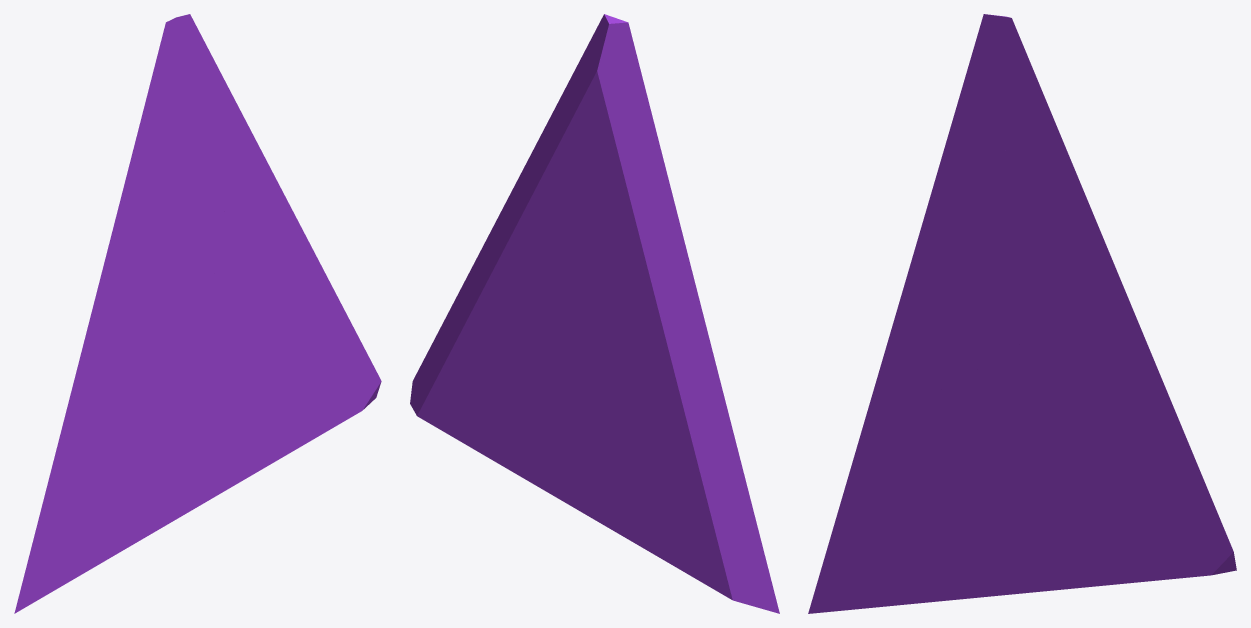
File: Glass_80_1_chunks.fbx
The picture shows the model from 3 angles, left to right: view 1: azimuth 30°, elevation 25°; view 2: azimuth 150°, elevation 25°; view 3: azimuth 330°, elevation 25°; orthographic projection. The views are drawn at different scales.
Parts seen in each view (by area): view 1: Glass_80_1_2, Glass_80_1_7, Glass_80_1_1, Glass_80_1_3, Glass_80_1_5, Glass_80_1_9, Glass_80_1_6, Glass_80_1_0, Glass_80_1_4; view 2: Glass_80_1_2, Glass_80_1_7, Glass_80_1_3, Glass_80_1_1, Glass_80_1_9, Glass_80_1_5, Glass_80_1_6, Glass_80_1_8; view 3: Glass_80_1_2, Glass_80_1_7, Glass_80_1_1, Glass_80_1_3, Glass_80_1_5, Glass_80_1_9, Glass_80_1_6, Glass_80_1_0, Glass_80_1_4.
Part boxes in pixels (bbox=[...]): Glass_80_1_2: bbox=[14, 330, 219, 613]; Glass_80_1_7: bbox=[64, 199, 224, 419]; Glass_80_1_1: bbox=[222, 75, 358, 337]; Glass_80_1_3: bbox=[164, 362, 381, 526]; Glass_80_1_5: bbox=[187, 296, 371, 393]; Glass_80_1_9: bbox=[108, 14, 195, 247]; Glass_80_1_6: bbox=[178, 26, 224, 222]; Glass_80_1_0: bbox=[115, 263, 234, 379]; Glass_80_1_4: bbox=[205, 383, 242, 443]; Glass_80_1_2: bbox=[553, 334, 779, 613]; Glass_80_1_7: bbox=[552, 222, 729, 420]; Glass_80_1_3: bbox=[410, 362, 618, 533]; Glass_80_1_1: bbox=[435, 75, 572, 337]; Glass_80_1_9: bbox=[592, 14, 685, 247]; Glass_80_1_5: bbox=[422, 300, 594, 401]; Glass_80_1_6: bbox=[553, 26, 601, 233]; Glass_80_1_8: bbox=[575, 177, 627, 222]; Glass_80_1_2: bbox=[808, 382, 1045, 613]; Glass_80_1_7: bbox=[865, 225, 1052, 417]; Glass_80_1_1: bbox=[1048, 107, 1207, 488]; Glass_80_1_3: bbox=[982, 488, 1236, 597]; Glass_80_1_5: bbox=[1008, 370, 1222, 524]; Glass_80_1_9: bbox=[917, 14, 1018, 242]; Glass_80_1_6: bbox=[997, 34, 1051, 278]; Glass_80_1_0: bbox=[925, 326, 1062, 399]; Glass_80_1_4: bbox=[1029, 462, 1072, 524].
Bounding box in the file's own units: 580 × 840 × 27.2.
